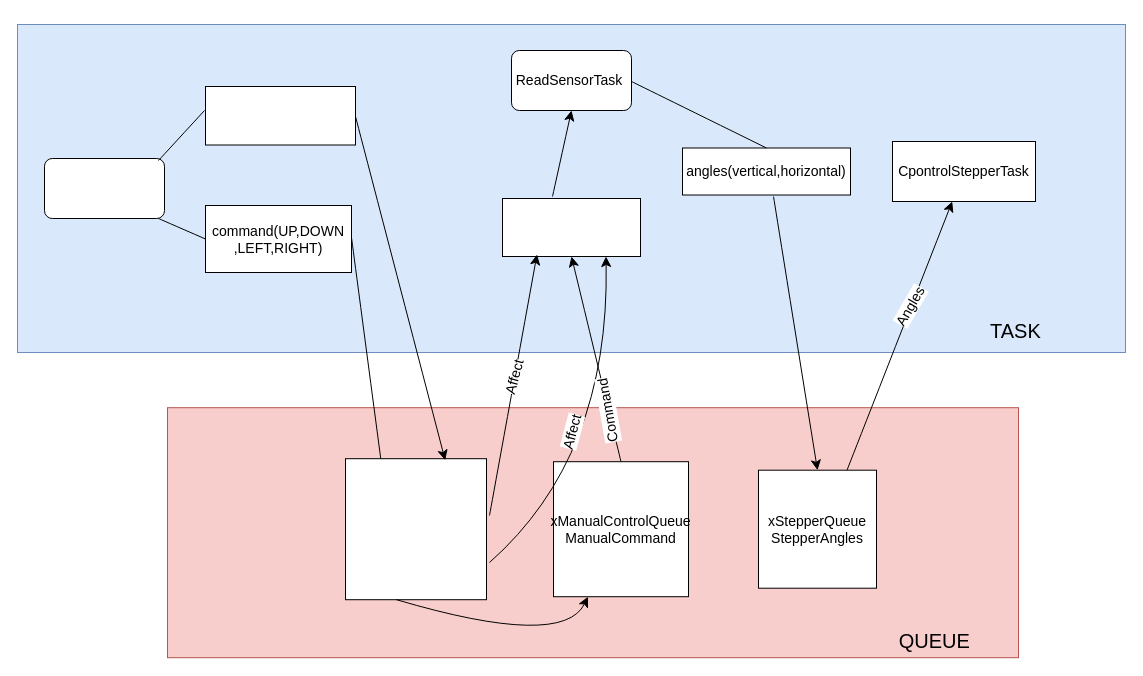
Image size: 1143x676. Some labels were removed from this diagram. Here are the shapes that lost their labels. From the top down, the centre of each, then its label:
At (280,115): "Mode(AUTO,MANUAL)".
At (104,188): "Interupt Handler".
At (571,227): "ManualControlTask".
At (415,529): "xModeQueue OperationMode".
